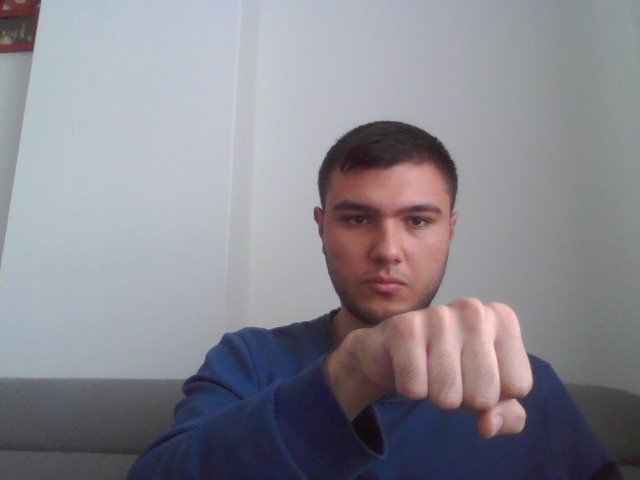yes: (350, 297, 537, 443)
